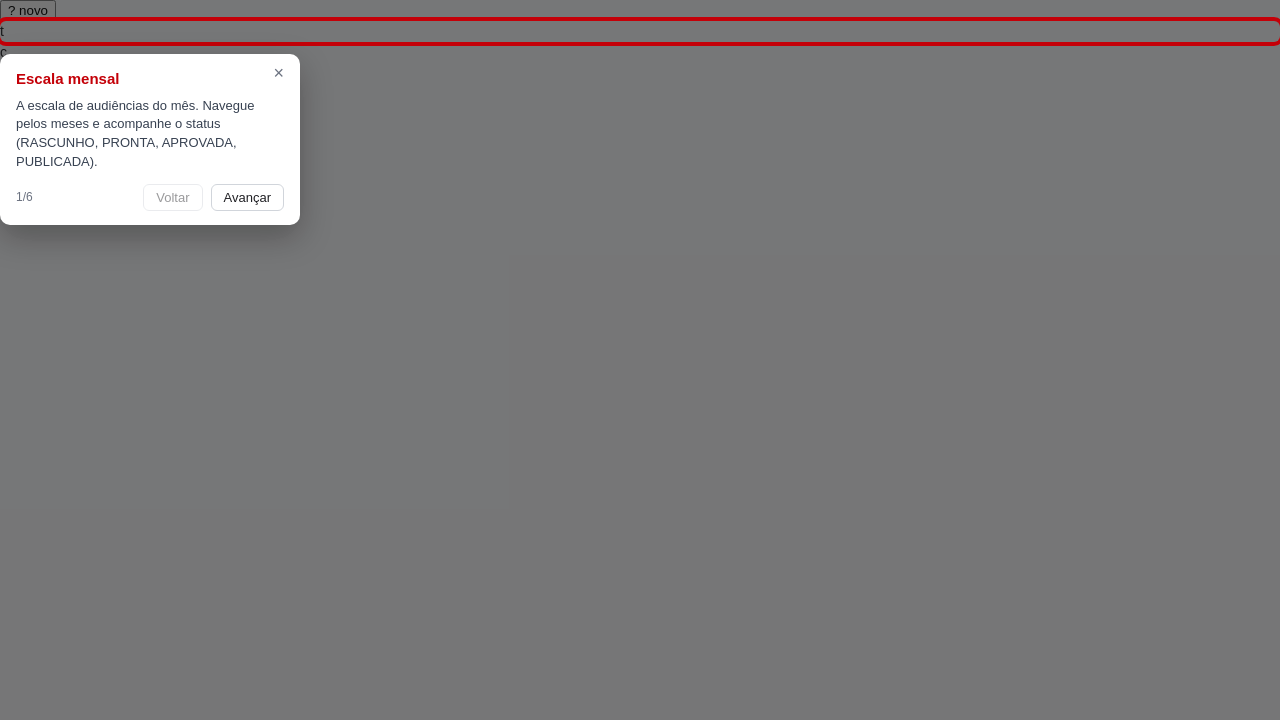
Scenario: TourProvider › pula graciosamente o passo cujo alvo nao existe
This screenshot has width=1280, height=720.
Expected: the text "Escala mensal" is shown, [16,70,119,87]
Step 1. Click the button "Avançar" → (247, 197), box [210,184,284,211]
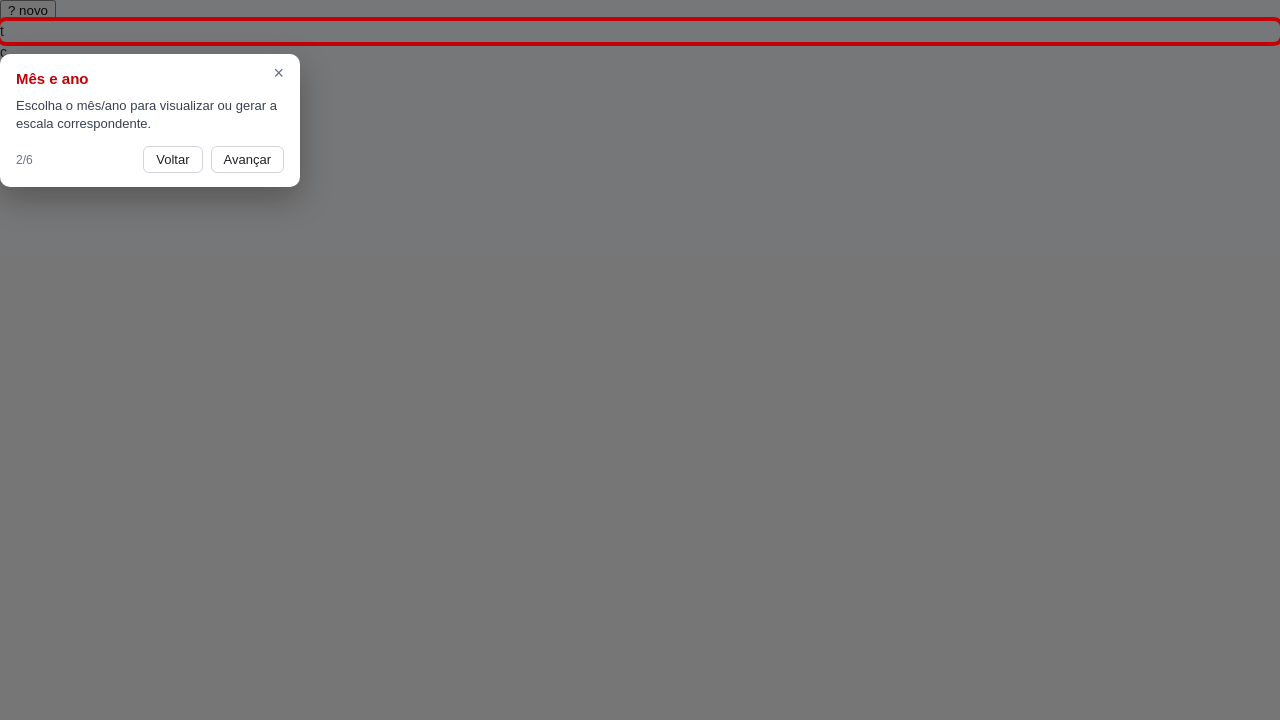
Expected: the text "Mês e ano" is shown, [16,70,88,87]
Step 2. Click the button "Avançar" → (247, 160), box [210,146,284,173]
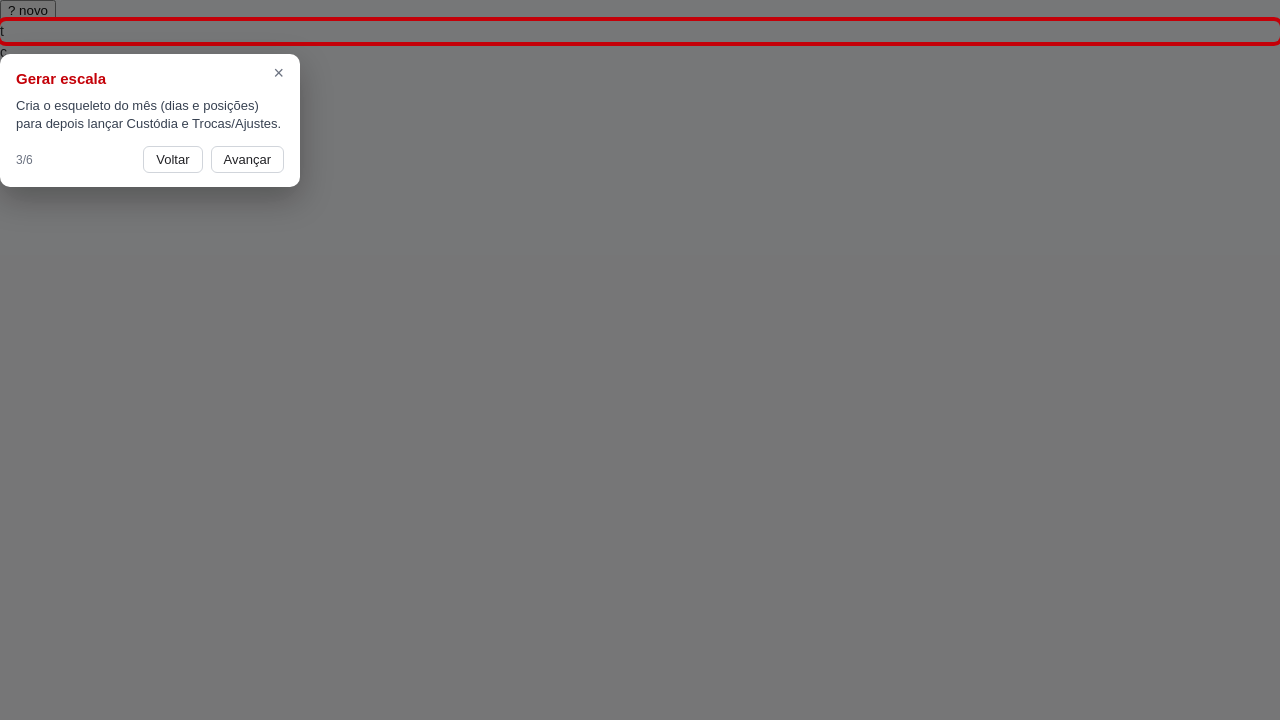
Expected: the text "Gerar escala" is shown, [16,70,106,87]
Step 3. Click the button "Avançar" → (247, 160), box [210,146,284,173]
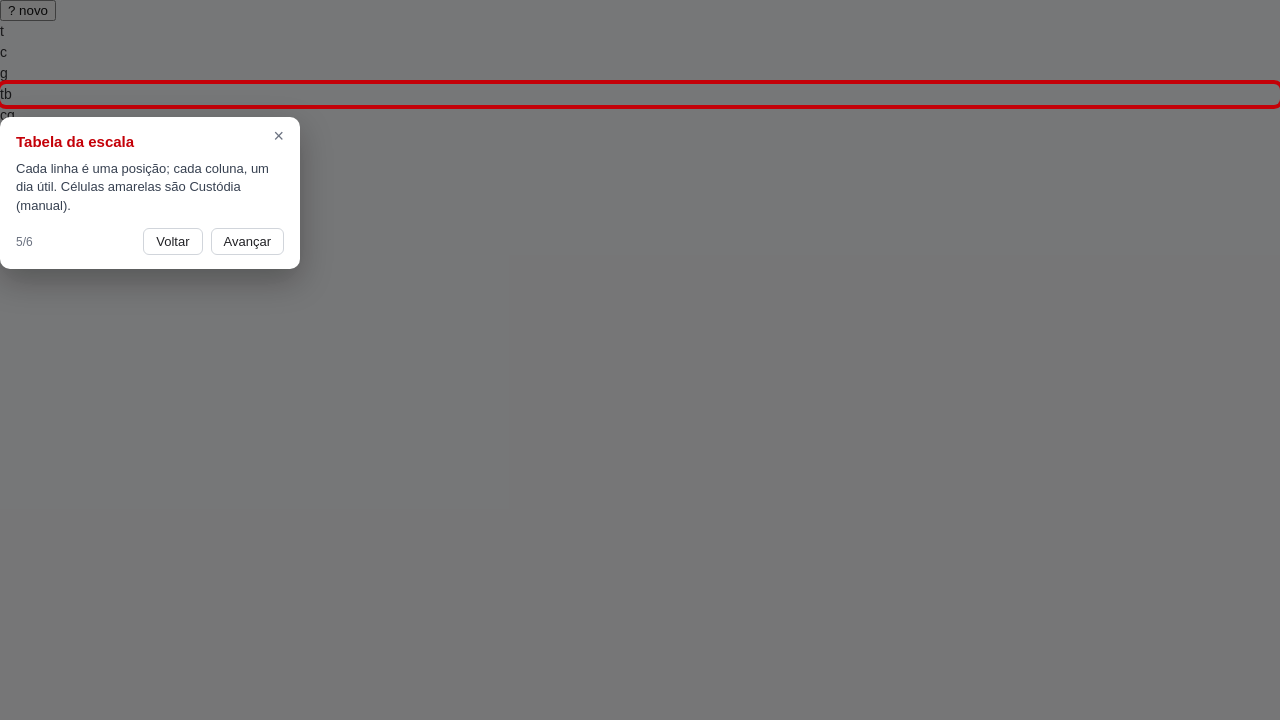
Expected: the text "Tabela da escala" is shown, [16,133,134,150]
